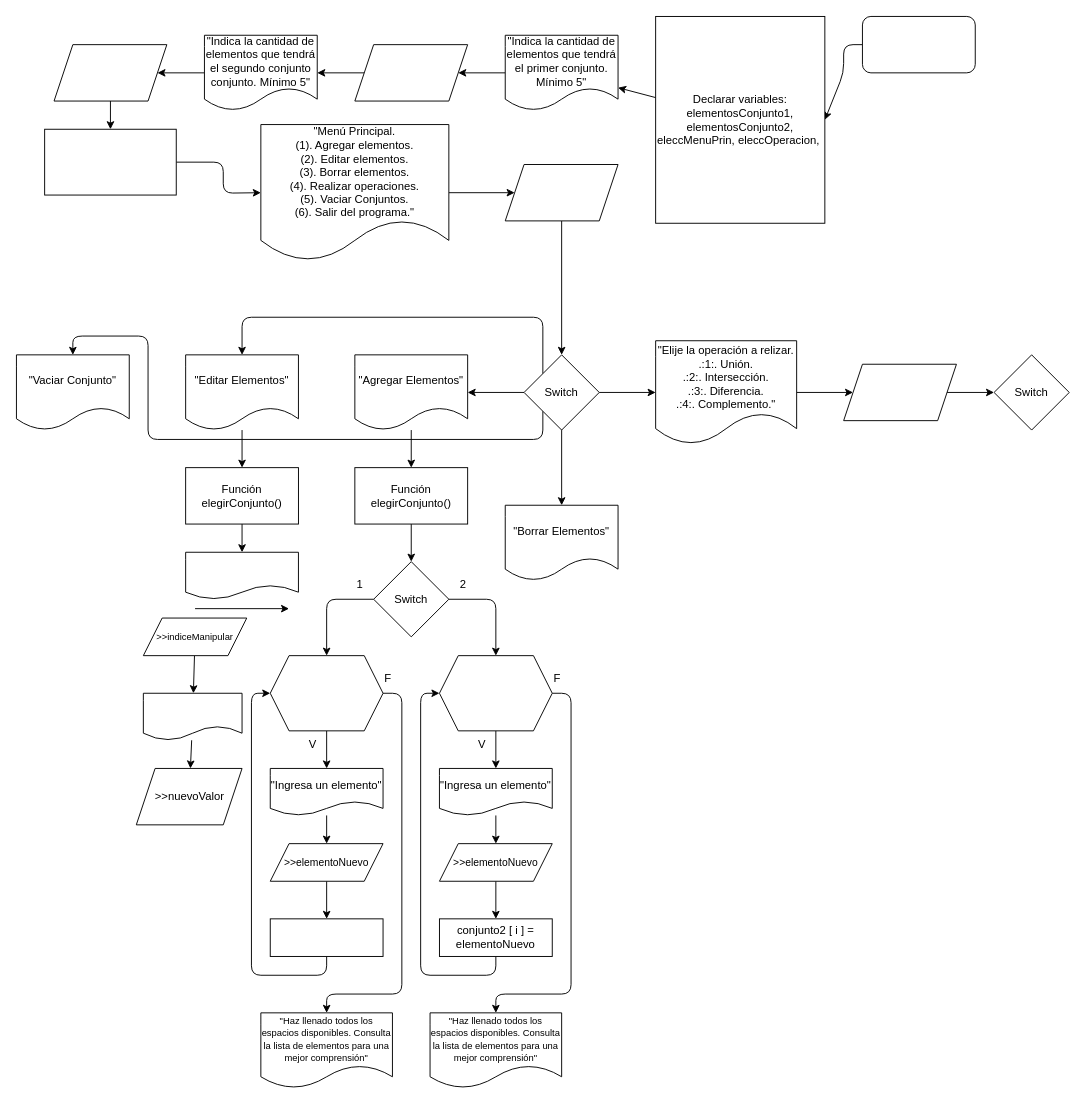
Image size: 1086x1105. Some labels were removed from this diagram. Each missing label, with the box of its shape:
"Indica el índice del elemento a editar": (185, 551, 298, 599)
"Ingresa el nuevo valor": (142, 692, 242, 740)
>>eleccMenuPrin: (504, 164, 618, 221)
>>eleccOperacion: (843, 363, 956, 421)
>>elementosConjunto1: (354, 44, 468, 101)
>>elementosConjunto2: (53, 44, 167, 101)
conjunto1 [ elementosConjunto1 ], conjunto2 [ elementosConjunto2 ]: (44, 128, 176, 195)
conjunto1 [ i ] = elementoNuevo: (269, 918, 383, 956)
Inicio: (862, 16, 975, 73)
Para i = 0, i < elementosConjunto1, i++: (269, 655, 383, 731)
Para i = 0, i < elementosConjunto2, i++: (439, 655, 552, 731)
